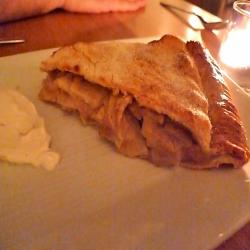apple_pie: (36, 32, 244, 174)
